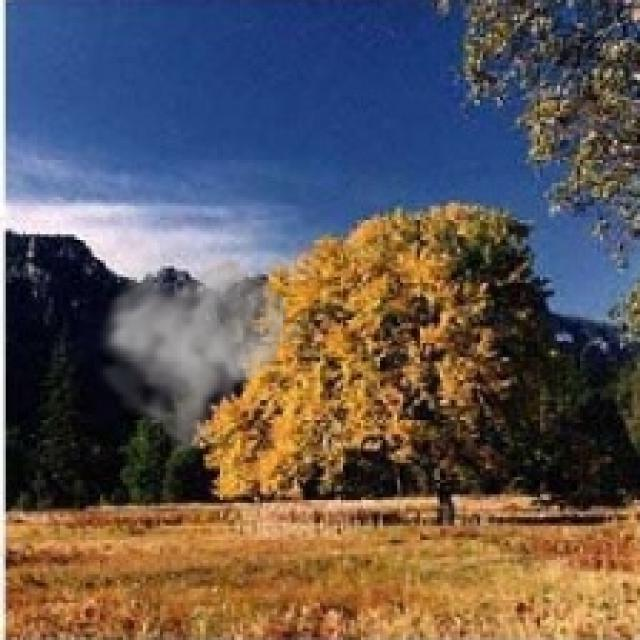smoke: (94, 240, 306, 463)
